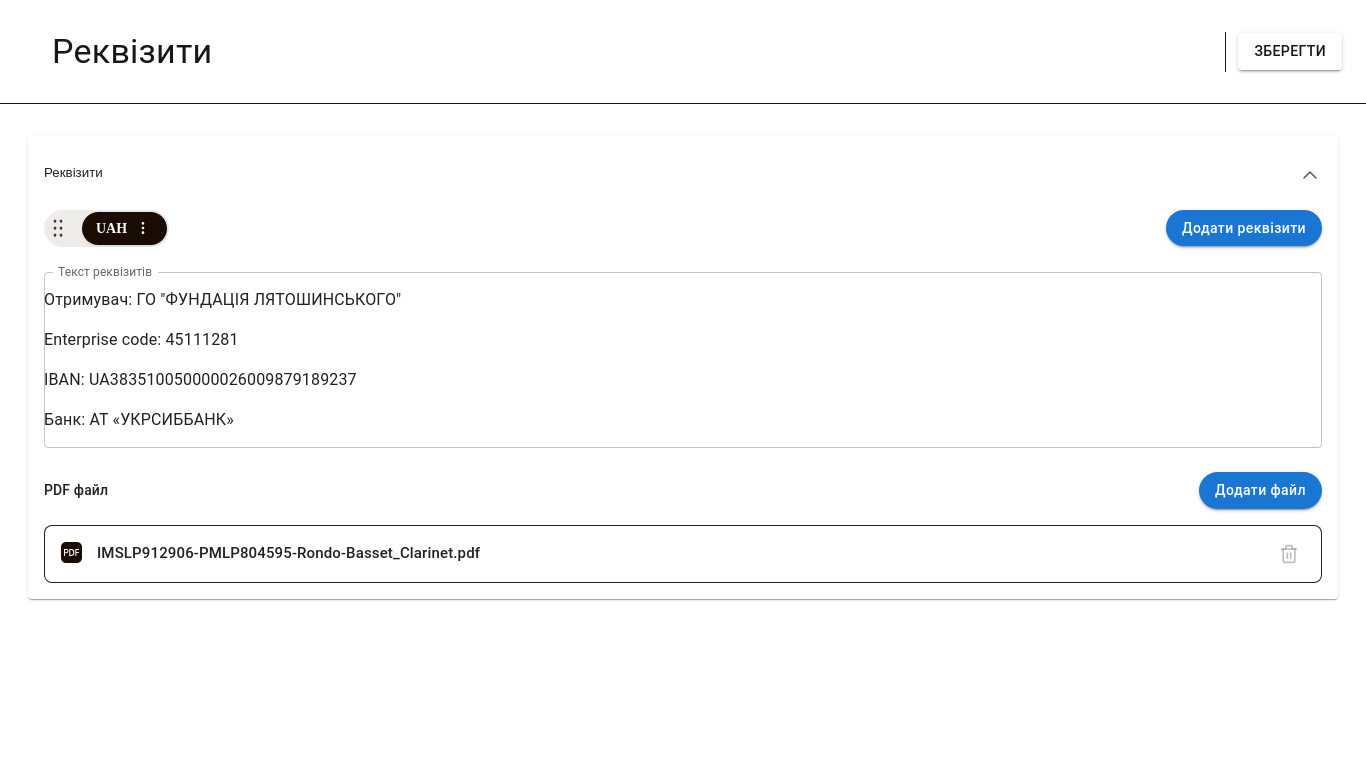
Test: PaymentDetailsPageContent › prevents deleting the last remaining tab and displays tooltip
Later steps or results of the test are not shown.
Click the button named "Опції реквізиту" at (143, 228), box [133,218,153,238]
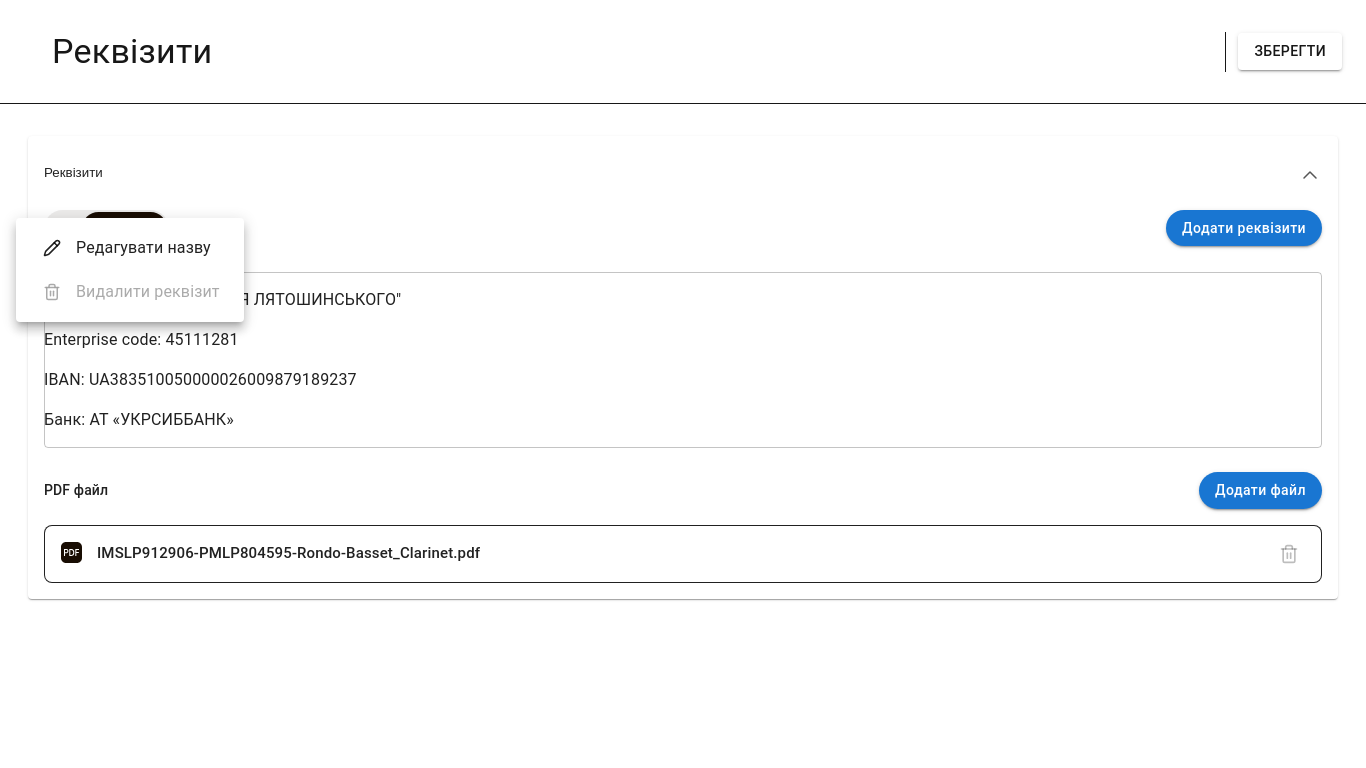
Hover over the element showing "Видалити реквізит" at (131, 292), box [43,282,220,301]
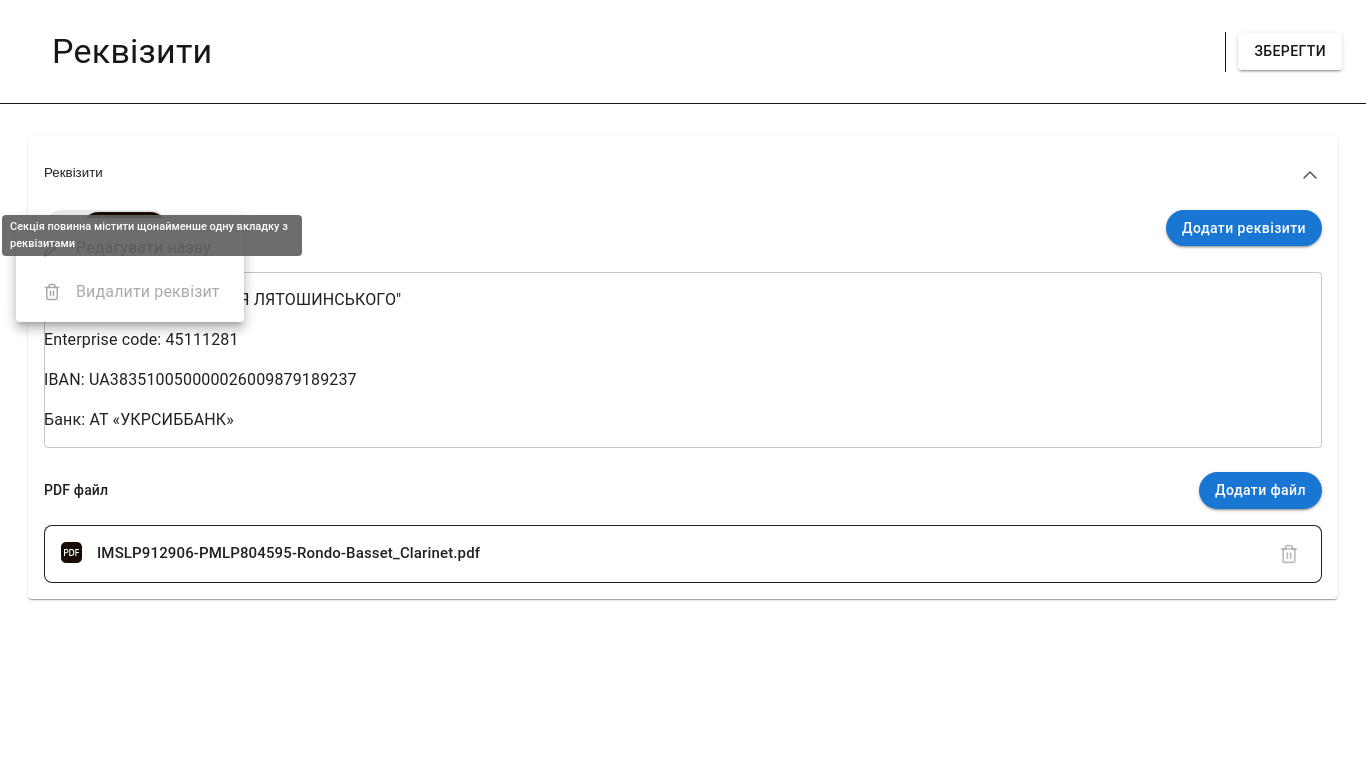
Now the text "Секція повинна містити щонайменше одну вкладку з реквізитами" is shown, box [2,215,302,256]
